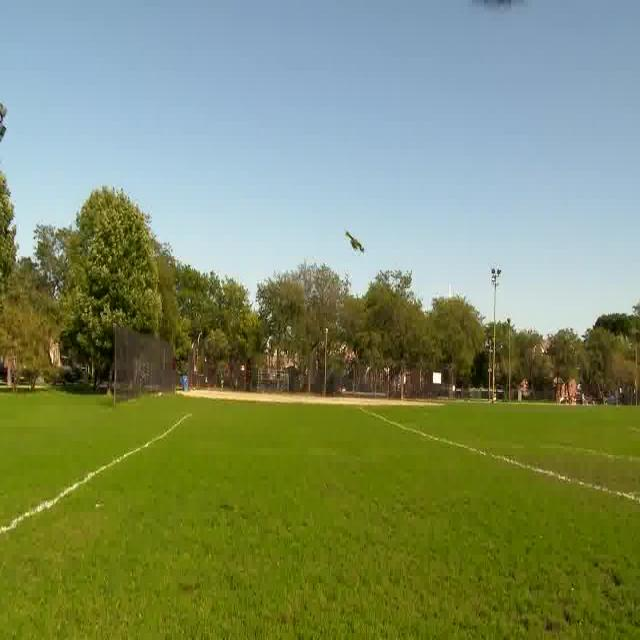drone: (342, 213, 370, 259)
